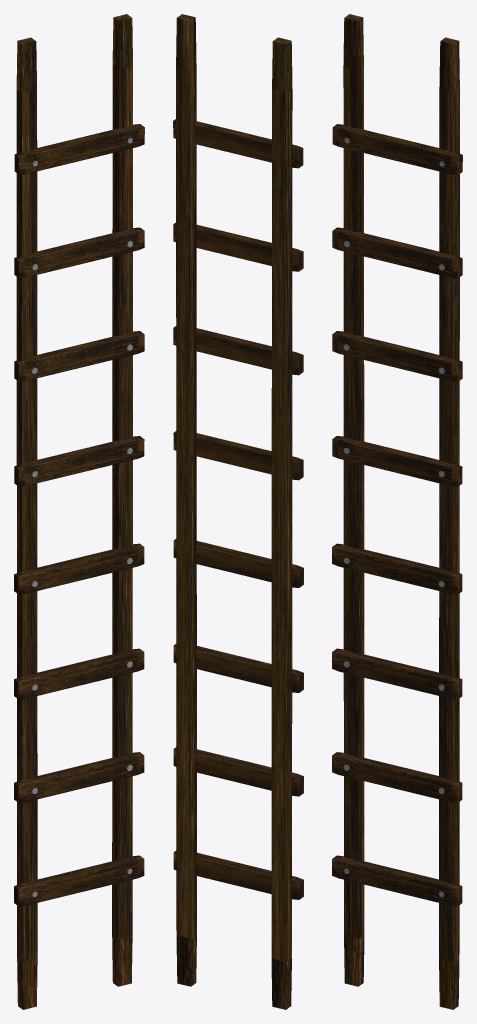
File: ladder_wood.glb
3 views of the same model, side by side, from view 1: azimuth 30°, elevation 25°; view 2: azimuth 150°, elevation 25°; view 3: azimuth 330°, elevation 25° (orthographic).
Visible parts, largest first — view 1: ladder_ladder_0; view 2: ladder_ladder_0; view 3: ladder_ladder_0.
Boxes of the visible parts, <box> form: ladder_ladder_0: <box>14,14,144,1009</box>; ladder_ladder_0: <box>173,14,303,1009</box>; ladder_ladder_0: <box>332,14,462,1009</box>.
Size of the model in its own units: 0.5691 by 4.16 by 0.0836.
1 material, 1 textured.
